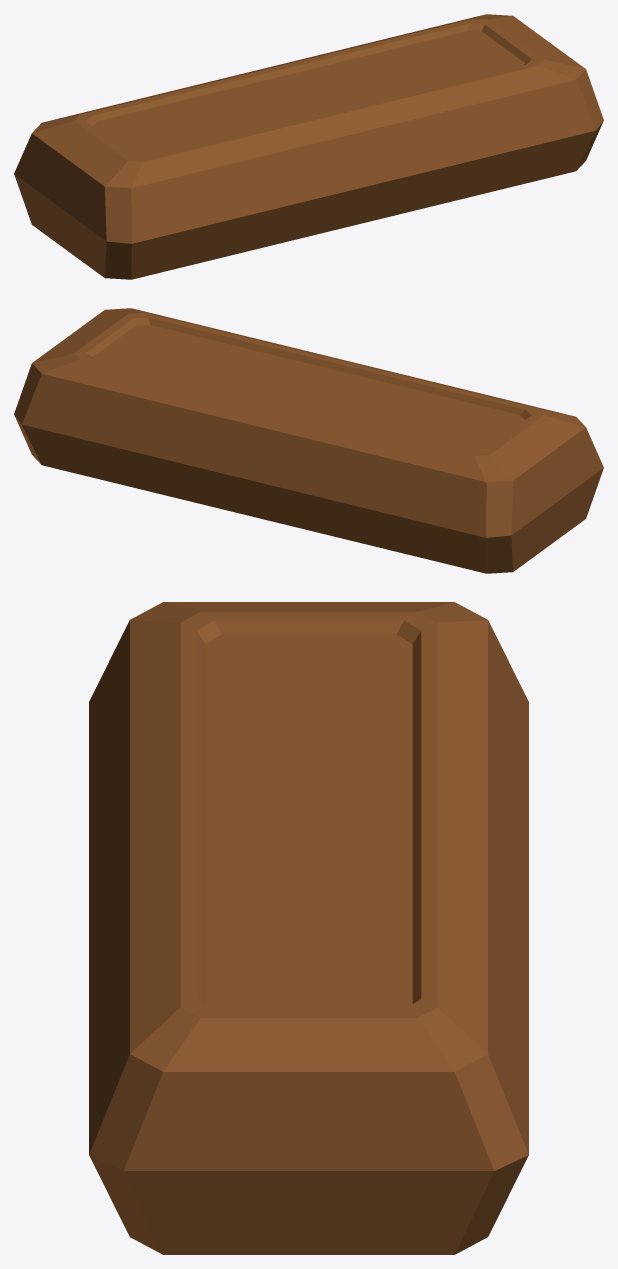
Rendered from CopperIngotC.fbx.
3 renders of one model, top to bottom at view 1: azimuth 30°, elevation 25°; view 2: azimuth 150°, elevation 25°; view 3: azimuth 270°, elevation 25°, orthographic. The views are drawn at different scales.
Visible parts, largest first — view 1: CopperIngotC; view 2: CopperIngotC; view 3: CopperIngotC.
Part boxes in pixels (<box>): CopperIngotC: <box>14,14,603,279</box>; CopperIngotC: <box>14,308,603,573</box>; CopperIngotC: <box>89,602,528,1254</box>.
Size of the model in its own units: 62.93 by 13.73 by 24.11.
